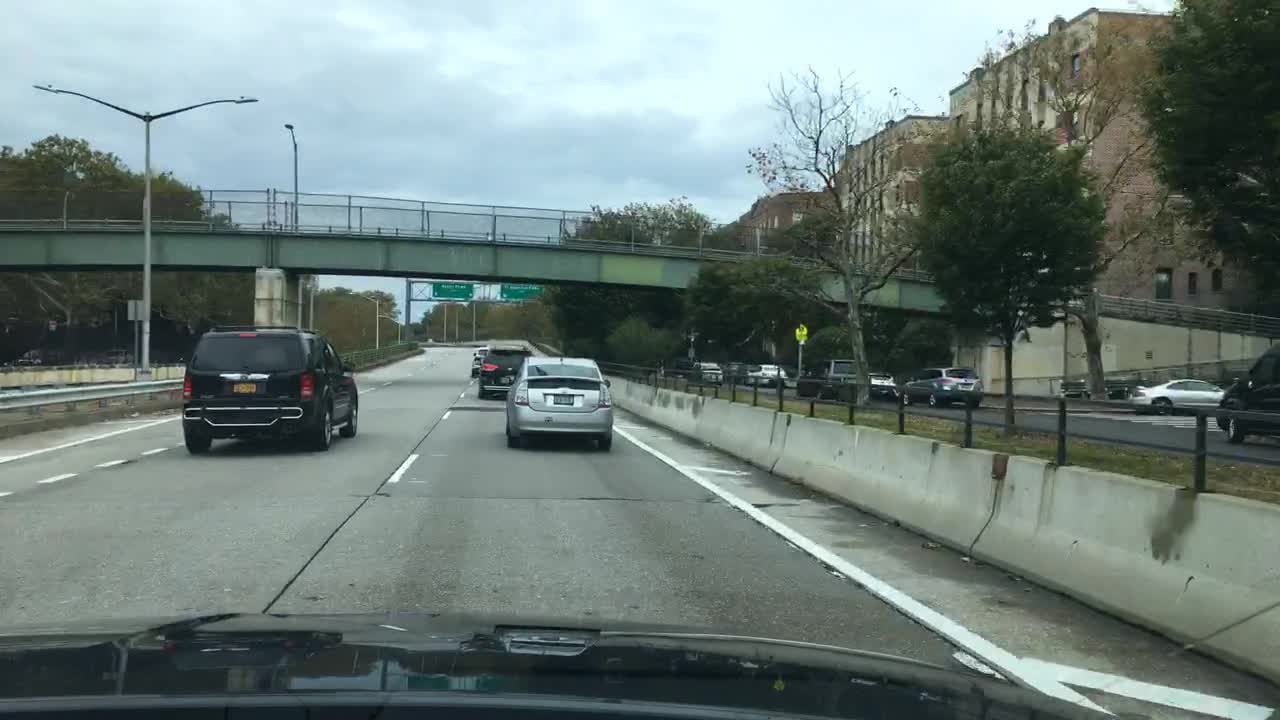car: (180, 322, 359, 453), (505, 354, 615, 456), (1216, 342, 1279, 441), (1127, 378, 1229, 416), (898, 366, 984, 410), (476, 342, 533, 399), (795, 357, 861, 401), (15, 345, 69, 368), (741, 363, 788, 387), (654, 356, 695, 382), (864, 369, 898, 399), (689, 360, 725, 384), (100, 347, 139, 363), (716, 360, 743, 383), (470, 347, 488, 377)
traffic sign: (499, 282, 545, 300), (431, 281, 470, 300), (126, 297, 144, 322), (793, 323, 808, 344), (686, 347, 700, 360)
